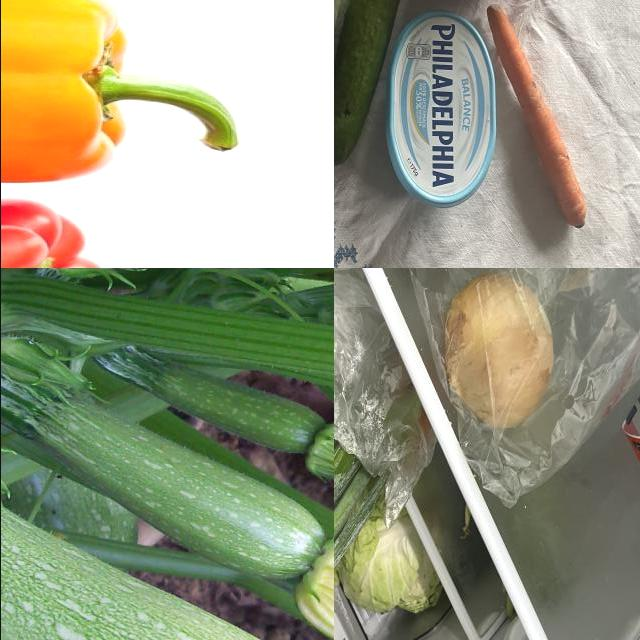bell_pepper: (1, 1, 244, 183)
cabbage: (339, 492, 445, 618)
carrot: (475, 1, 595, 253)
cucumber: (334, 1, 397, 200)
onion: (443, 273, 555, 433)
zucchini: (1, 455, 334, 640)
